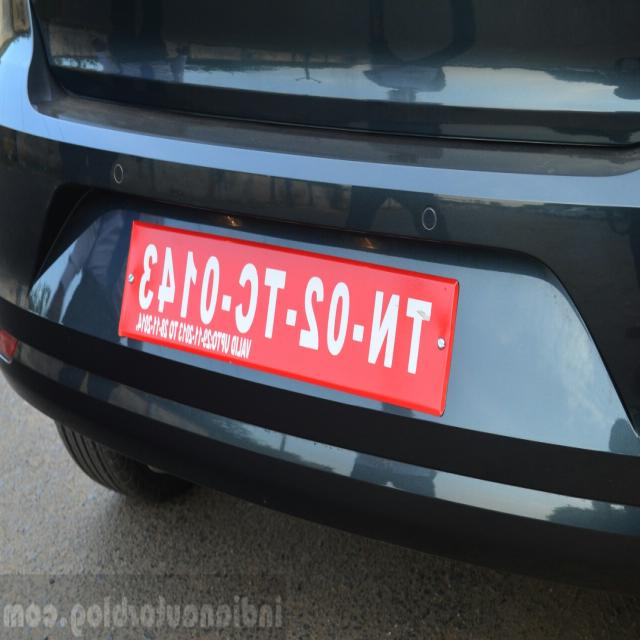number-plate: (114, 207, 474, 463)
